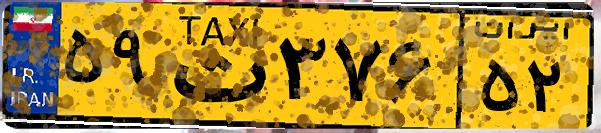2: (525, 38, 570, 115)
3: (270, 28, 330, 110)
5: (57, 26, 110, 100), (475, 38, 525, 113)
6: (385, 28, 445, 110)
7: (330, 28, 385, 110)
9: (110, 28, 158, 98)
ت: (158, 12, 270, 120)
